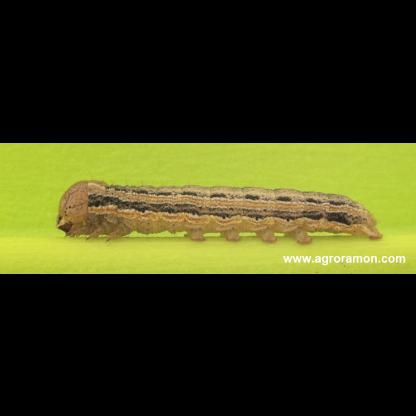oruga: (45, 180, 389, 248)
